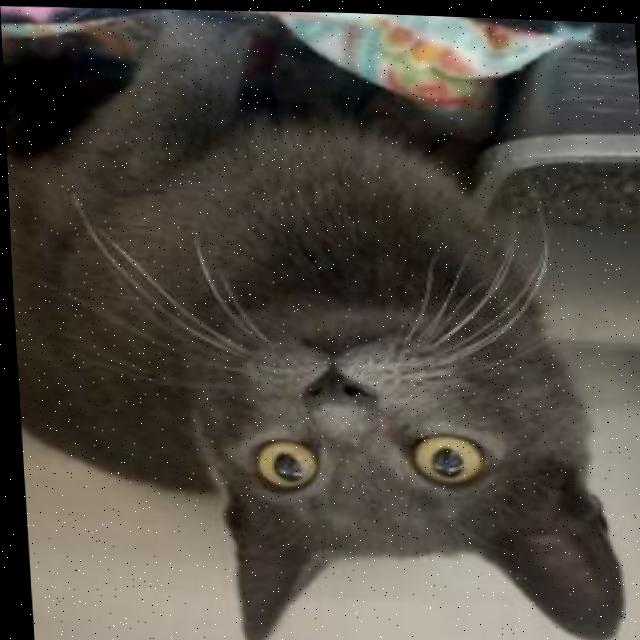Russian Blue: (0, 0, 625, 640)
